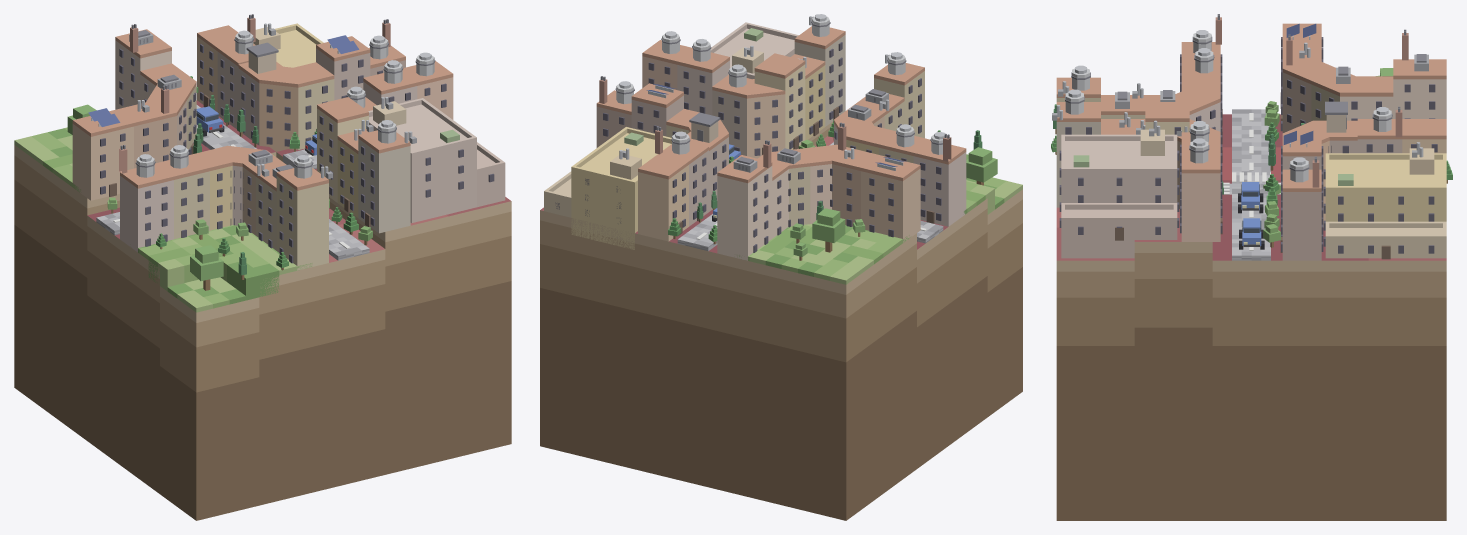
The model's file is block_19_permeable_20.glb.
3 views of the same model, side by side, from view 1: azimuth 30°, elevation 25°; view 2: azimuth 150°, elevation 25°; view 3: azimuth 270°, elevation 25° (orthographic). The views are drawn at different scales.
Parts seen in each view (by area): view 1: Patch_MidRight_b19_PP, Cerda_MidRight_b19_PP, Insets_MidRight_b19_PP, Green_MidRight_b19_PP, CerdaRoofProps_MidRight_b19_PP, Roads_MidRight_b19_PP, Asset_Tree_Round.077_PP, Asset_Car.040_PP; view 2: Patch_MidRight_b19_PP, Cerda_MidRight_b19_PP, Insets_MidRight_b19_PP, CerdaRoofProps_MidRight_b19_PP, Green_MidRight_b19_PP, Roads_MidRight_b19_PP, Asset_Tree_Round.065_PP, Asset_Tree_Round.077_PP; view 3: Patch_MidRight_b19_PP, Cerda_MidRight_b19_PP, Insets_MidRight_b19_PP, CerdaRoofProps_MidRight_b19_PP, Roads_MidRight_b19_PP, Asset_Car.041_PP, Asset_Car.042_PP.
Boxes of the visible parts, <box> form: Patch_MidRight_b19_PP: <box>14,100,511,520</box>; Cerda_MidRight_b19_PP: <box>72,25,453,270</box>; Insets_MidRight_b19_PP: <box>253,23,505,223</box>; Green_MidRight_b19_PP: <box>14,127,312,312</box>; CerdaRoofProps_MidRight_b19_PP: <box>88,14,435,178</box>; Roads_MidRight_b19_PP: <box>96,105,369,260</box>; Asset_Tree_Round.077_PP: <box>190,245,223,290</box>; Asset_Car.040_PP: <box>196,106,224,136</box>; Patch_MidRight_b19_PP: <box>540,121,1022,520</box>; Cerda_MidRight_b19_PP: <box>596,26,966,260</box>; Insets_MidRight_b19_PP: <box>544,22,798,249</box>; CerdaRoofProps_MidRight_b19_PP: <box>599,14,951,172</box>; Green_MidRight_b19_PP: <box>737,154,1022,284</box>; Roads_MidRight_b19_PP: <box>677,142,943,251</box>; Asset_Tree_Round.065_PP: <box>812,208,845,252</box>; Asset_Tree_Round.077_PP: <box>966,147,997,185</box>; Patch_MidRight_b19_PP: <box>1056,114,1446,520</box>; Cerda_MidRight_b19_PP: <box>1056,23,1446,260</box>; Insets_MidRight_b19_PP: <box>1059,129,1446,259</box>; CerdaRoofProps_MidRight_b19_PP: <box>1052,14,1428,187</box>; Roads_MidRight_b19_PP: <box>1223,109,1270,260</box>; Asset_Car.041_PP: <box>1238,182,1263,213</box>; Asset_Car.042_PP: <box>1239,218,1264,249</box>.
Size of the model in its own units: 9.51 by 10.16 by 9.78.
